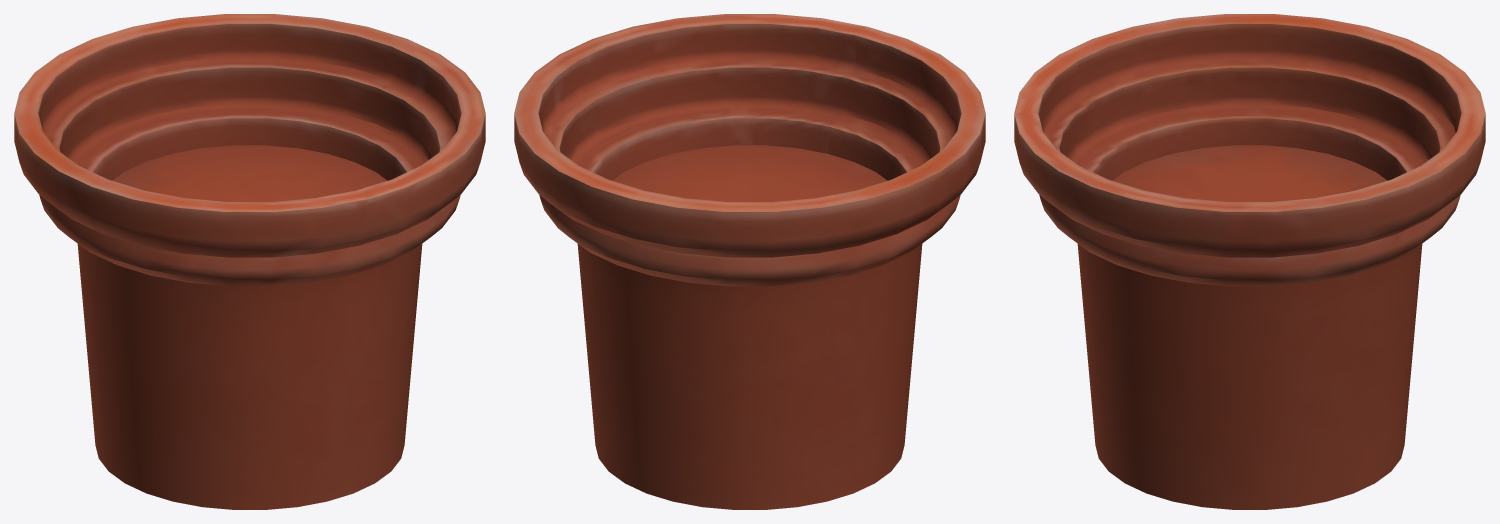
Rendered from SM_FlowerPot_02.fbx.
3 views of the same model, side by side, from view 1: azimuth 30°, elevation 25°; view 2: azimuth 150°, elevation 25°; view 3: azimuth 270°, elevation 25° (orthographic).
Visible parts, largest first — view 1: SM_FlowerPot_02_LOD0; view 2: SM_FlowerPot_02_LOD0; view 3: SM_FlowerPot_02_LOD0.
Boxes of the visible parts, x1,y1,x2,y2 form: SM_FlowerPot_02_LOD0: (14, 14, 485, 509); SM_FlowerPot_02_LOD0: (514, 14, 985, 509); SM_FlowerPot_02_LOD0: (1014, 14, 1485, 509).
Size of the model in its own units: 27.82 by 27.97 by 21.73.
Materials: 1 (1 with a texture image).
